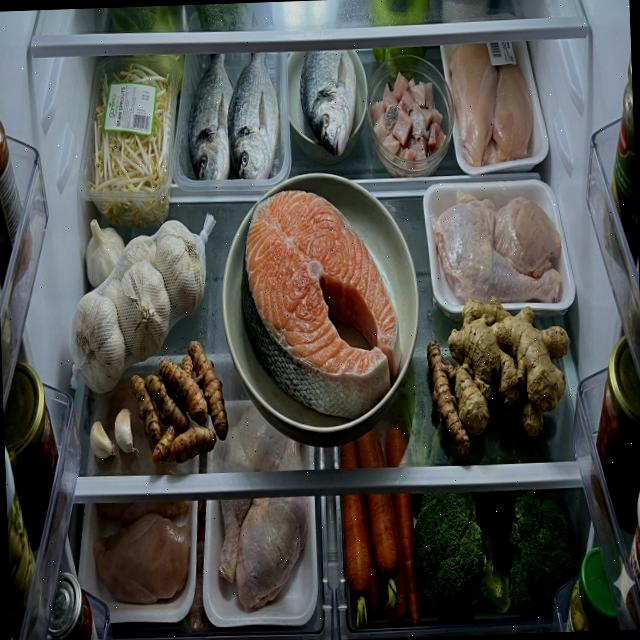bean_sprouts: (84, 59, 178, 226)
brocolli: (411, 490, 512, 624), (504, 487, 578, 622)
carrot: (338, 422, 419, 627)
chicken: (213, 402, 312, 612), (432, 185, 564, 308), (448, 41, 535, 169), (91, 499, 192, 606)
fish: (237, 187, 403, 424), (186, 51, 282, 182), (297, 49, 358, 158)
garlic: (66, 214, 209, 396), (89, 409, 138, 461)
ginger: (446, 292, 572, 440)
turmeric: (130, 338, 230, 468), (428, 338, 470, 458)
